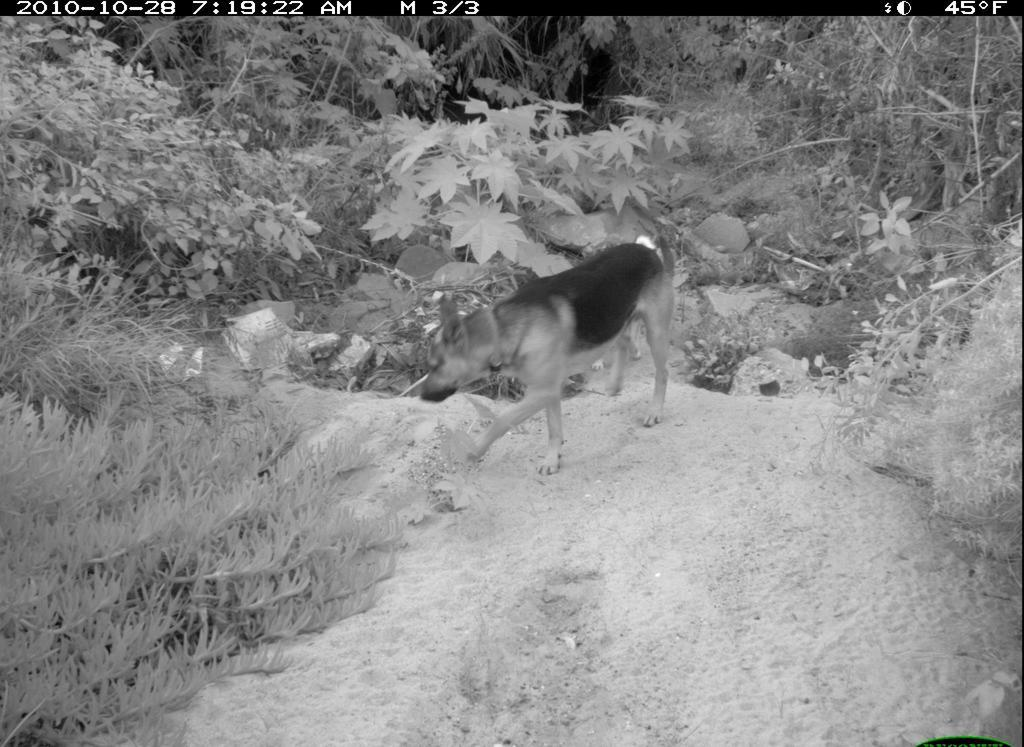dog: (418, 224, 702, 476)
